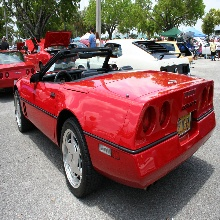no damage: (12, 48, 218, 201)
